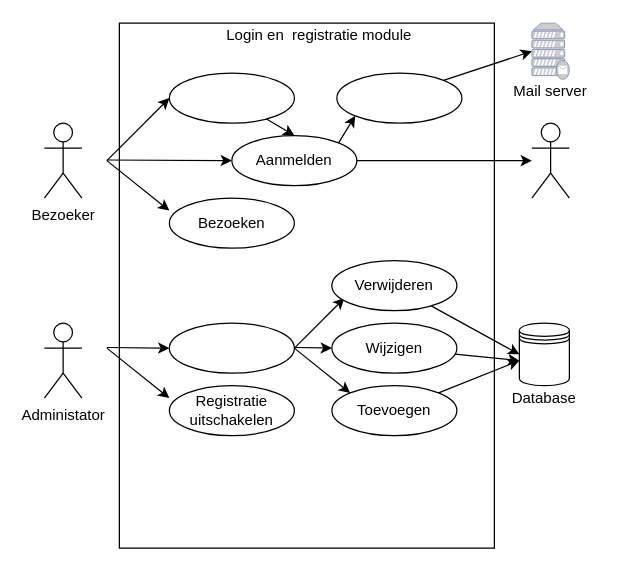
Image size: 623x570. Some labels were removed from this diagram. The centre of each missing label's shape, as x and y in pixels:
"Gebruikers overzicht" goes at [231,347].
"Klant" goes at [550,160].
"Registreren" goes at [231,97].
"Wachtwoord vergeten" goes at [399,97].
